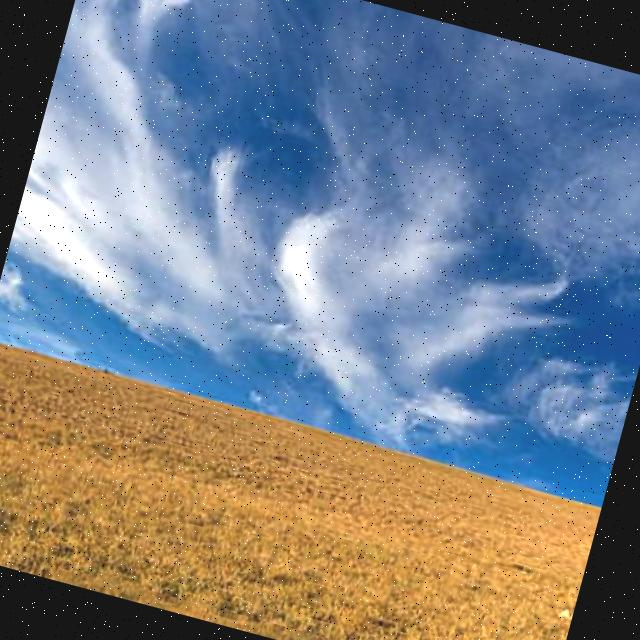Ci: (1, 1, 618, 459)
